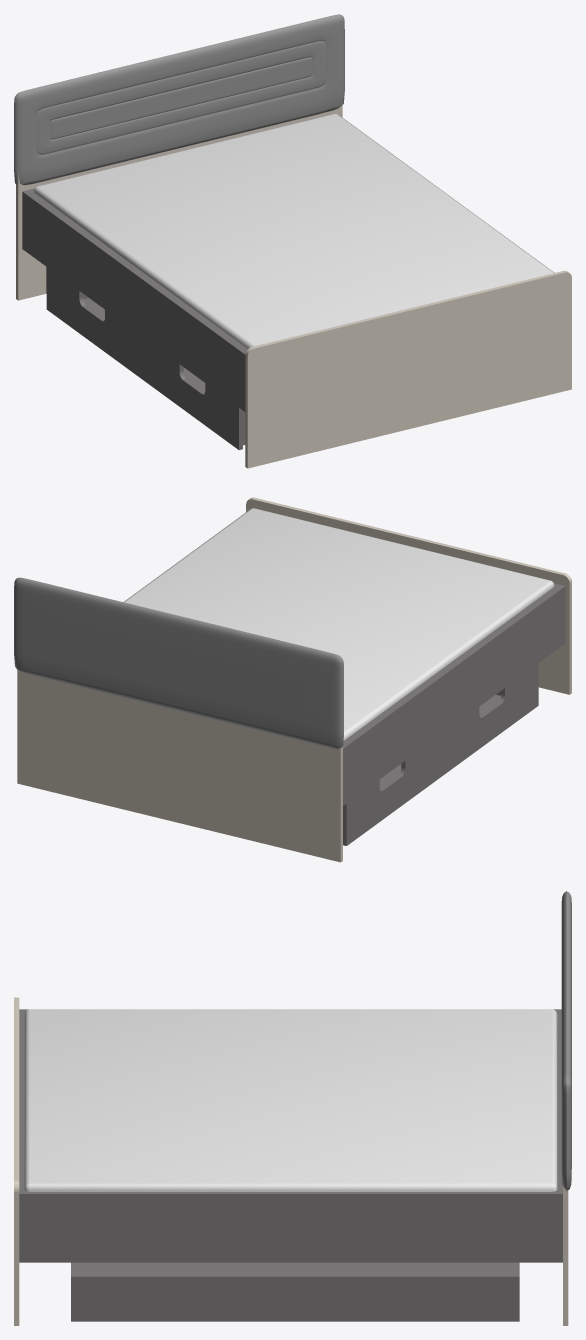
File: 2pir_lozko2os_plaski_szczyt_160_2.obj
3 views of the same model, one above another, from view 1: azimuth 30°, elevation 25°; view 2: azimuth 150°, elevation 25°; view 3: azimuth 270°, elevation 25° (orthographic). The views are drawn at different scales.
Visible parts, largest first — view 1: ChamferBox01, Rectangle16, ChamferBox002, Box02, Rectangle01, Rectangle17; view 2: ChamferBox01, Rectangle17, ChamferBox002, Box02, Rectangle01, Rectangle16; view 3: ChamferBox01, Box02, Box01, ChamferBox002, Rectangle16, Rectangle17.
Boxes of the visible parts, <box> form: ChamferBox01: <box>34,113,553,348</box>; Rectangle16: <box>245,270,571,468</box>; ChamferBox002: <box>14,14,344,185</box>; Box02: <box>22,114,554,411</box>; Rectangle01: <box>46,267,242,449</box>; Rectangle17: <box>16,102,342,300</box>; ChamferBox01: <box>124,508,554,740</box>; Rectangle17: <box>17,670,342,862</box>; ChamferBox002: <box>14,577,343,749</box>; Box02: <box>123,509,565,805</box>; Rectangle01: <box>343,663,538,845</box>; Rectangle16: <box>246,497,571,694</box>; ChamferBox01: <box>24,1009,557,1191</box>; Box02: <box>19,1009,562,1262</box>; Box01: <box>71,1262,519,1321</box>; ChamferBox002: <box>561,891,571,1190</box>; Rectangle16: <box>14,997,19,1325</box>; Rectangle17: <box>563,1185,568,1325</box>.
Bounding box in the file's own units: 168 × 100 × 205.
